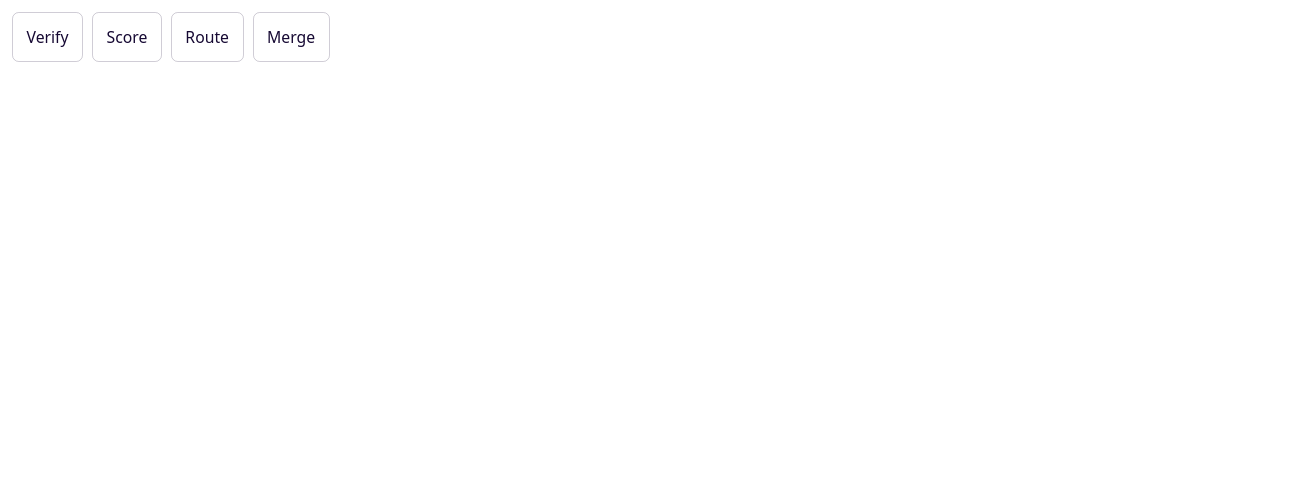
Test case: CandidateActionPanel › requires a reason before any action can submit
Click the button "Verify" at (48, 37), box [12,12,83,62]
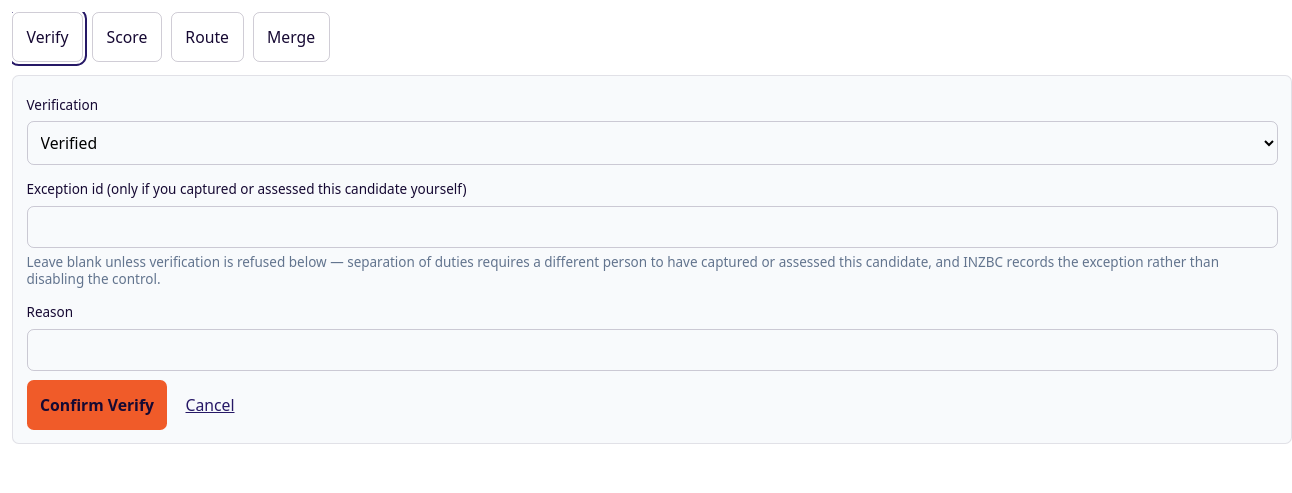
Click the button "Confirm Verify" at (97, 405), box [26,380,168,430]
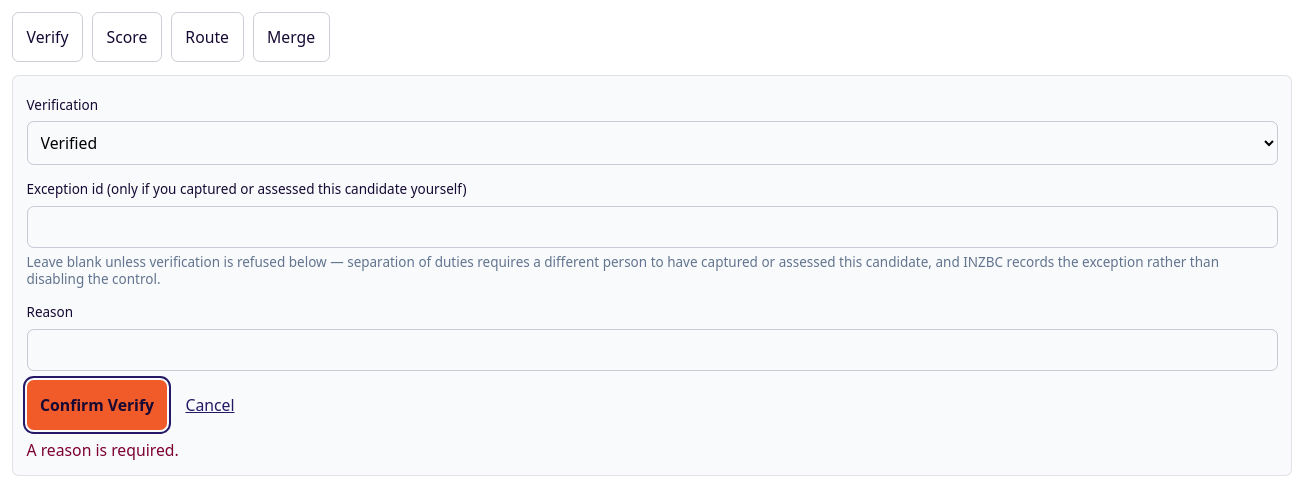
Expected: the message reads "A reason is required.", [26,439,179,461]
